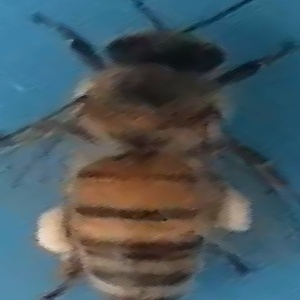bee: (23, 6, 290, 299)
